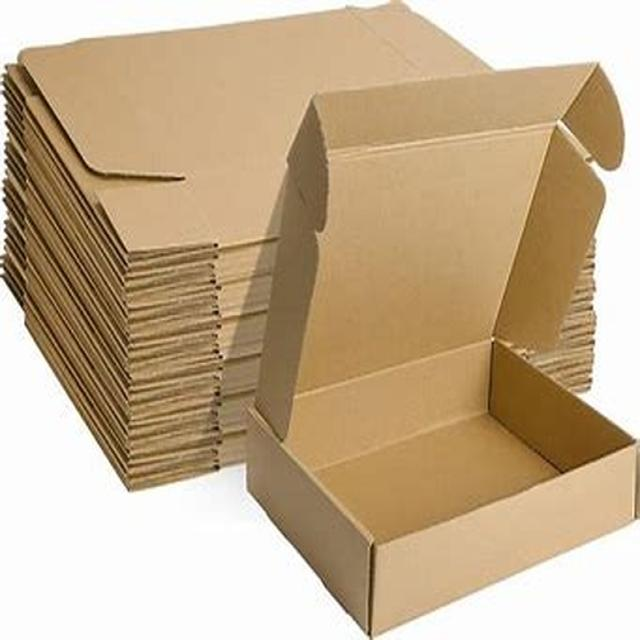box: (233, 119, 640, 605)
